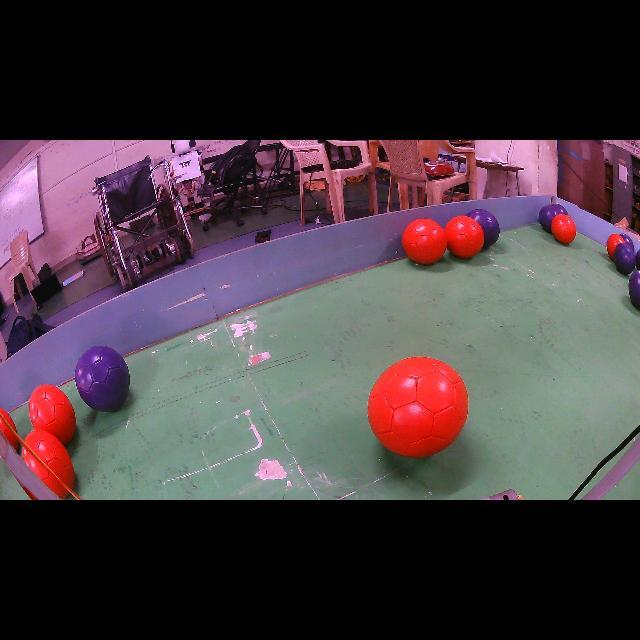P: (75, 346, 130, 411), (466, 209, 500, 249), (539, 204, 568, 232), (614, 242, 635, 275), (629, 270, 640, 309), (620, 234, 634, 250), (635, 250, 640, 270)
R: (368, 356, 468, 458), (22, 430, 75, 499), (29, 384, 76, 444), (401, 219, 448, 264), (445, 216, 484, 259), (551, 214, 576, 244), (606, 234, 625, 259)
